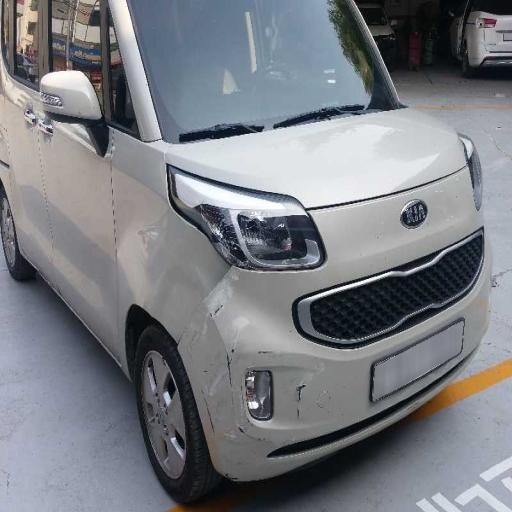scratch: (149, 246, 332, 477)
